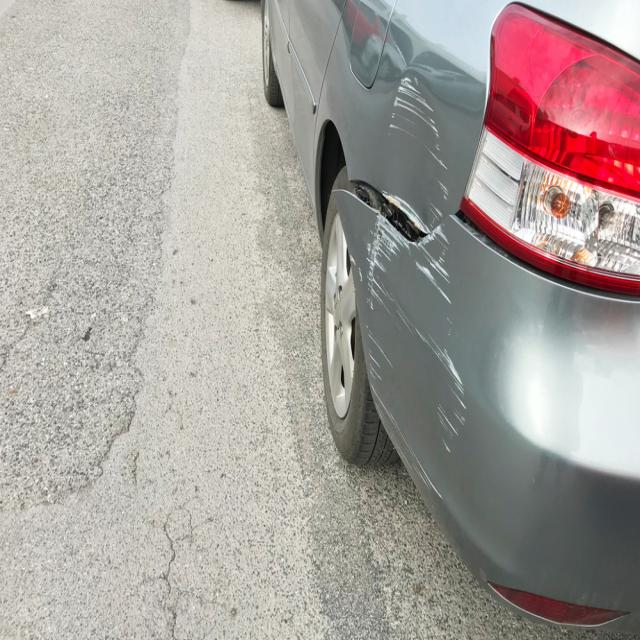dent: (389, 23, 412, 72)
scratch: (351, 213, 468, 523), (369, 73, 445, 232)
